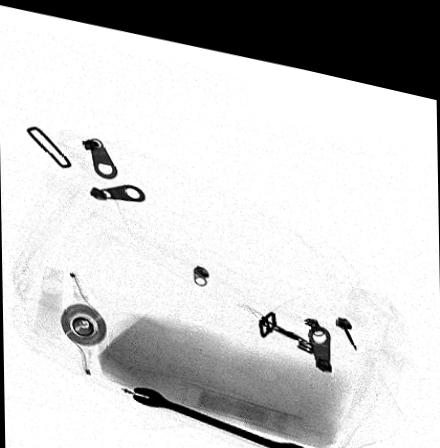Wrench: (129, 378, 313, 448)
